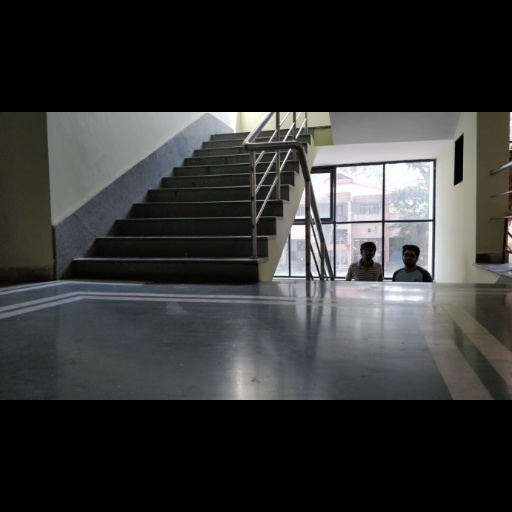Stairs: (66, 134, 297, 282)
